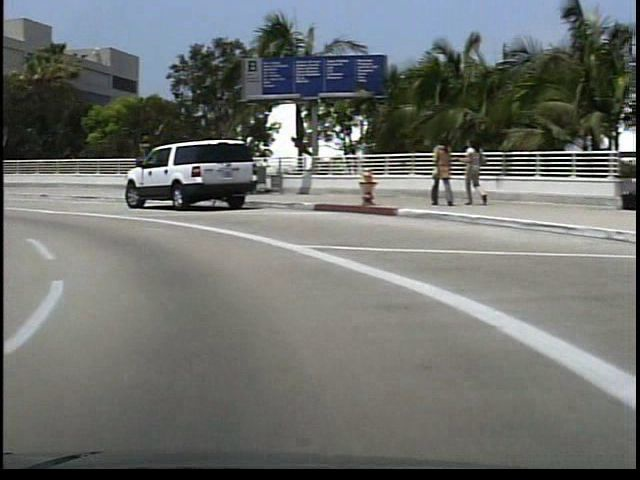person: (453, 136, 480, 210), (425, 132, 449, 214)
